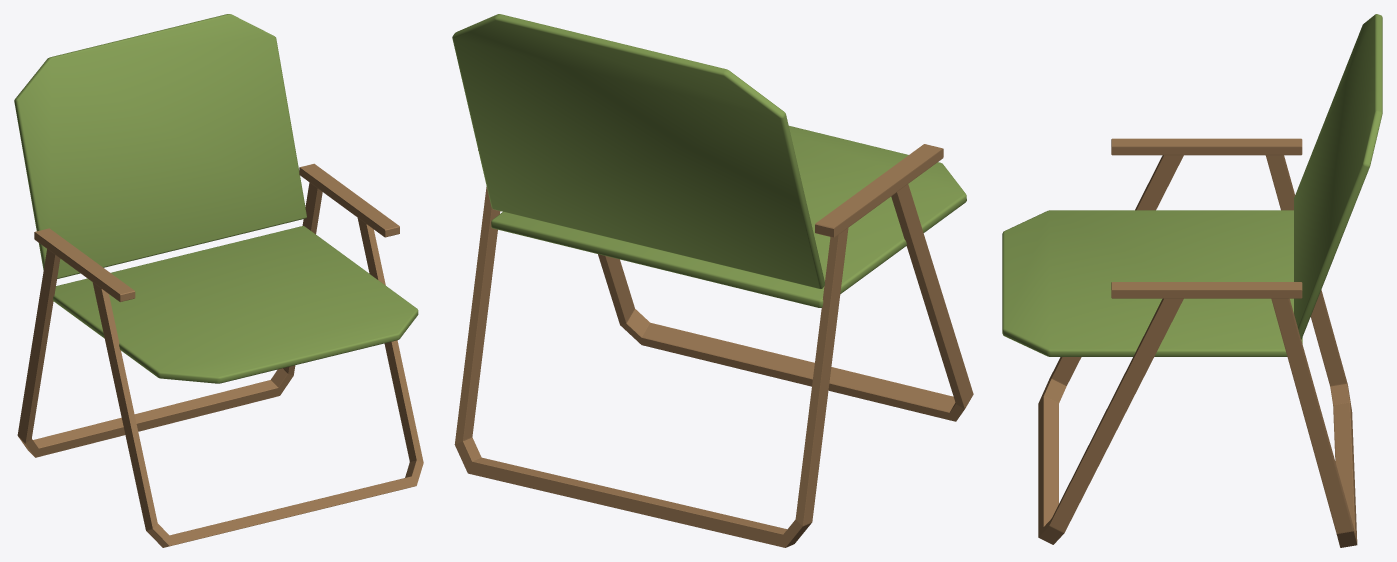
Rendered from Chair_Bevel.fbx.
3 views of the same model, side by side, from view 1: azimuth 30°, elevation 25°; view 2: azimuth 150°, elevation 25°; view 3: azimuth 270°, elevation 25° (orthographic). The views are drawn at different scales.
Visible parts, largest first — view 1: Frame; view 2: Frame; view 3: Frame.
Part boxes in pixels (x1=…): Frame: x1=14, y1=14, x2=423, y2=547; Frame: x1=452, y1=14, x2=973, y2=547; Frame: x1=1002, y1=14, x2=1382, y2=547.
Size of the model in its own units: 92.91 by 120 by 98.59.
